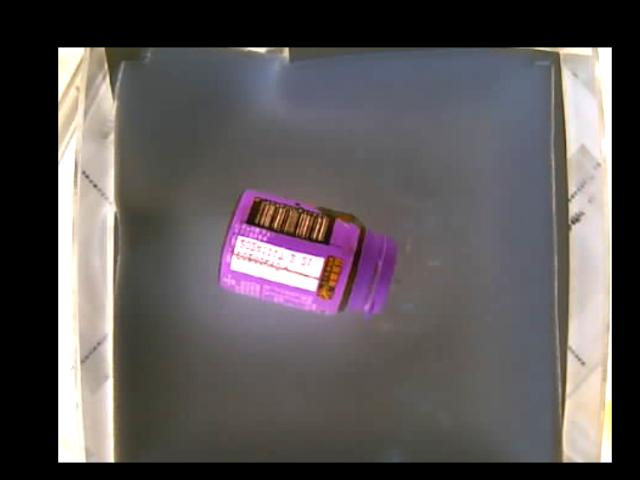Bottle: (215, 187, 394, 318)
